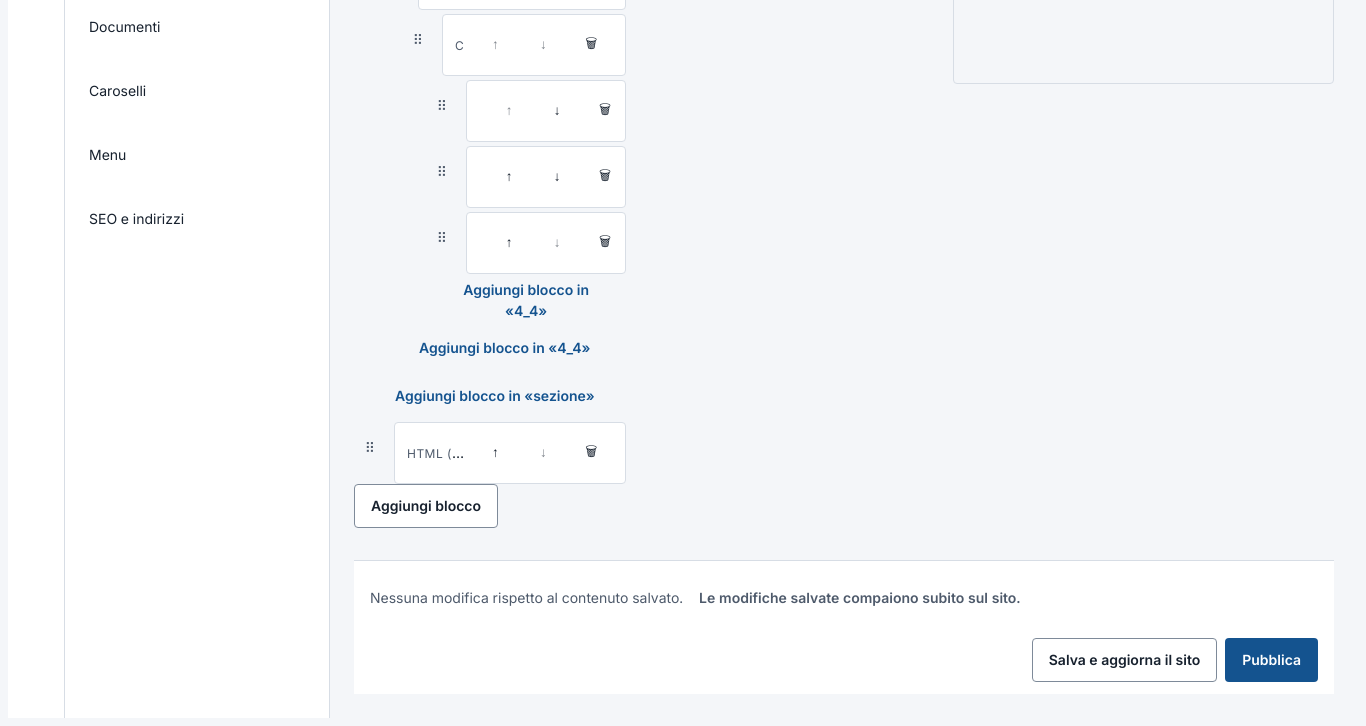
Test: editor: inserimento dell’immagine › video, mappa e modulo restano spenti
This screenshot has width=1366, height=726.
(page scrolled)
Click the button "Aggiungi blocco".
click(426, 506)  # box x1=354 y1=484 x2=498 y2=528
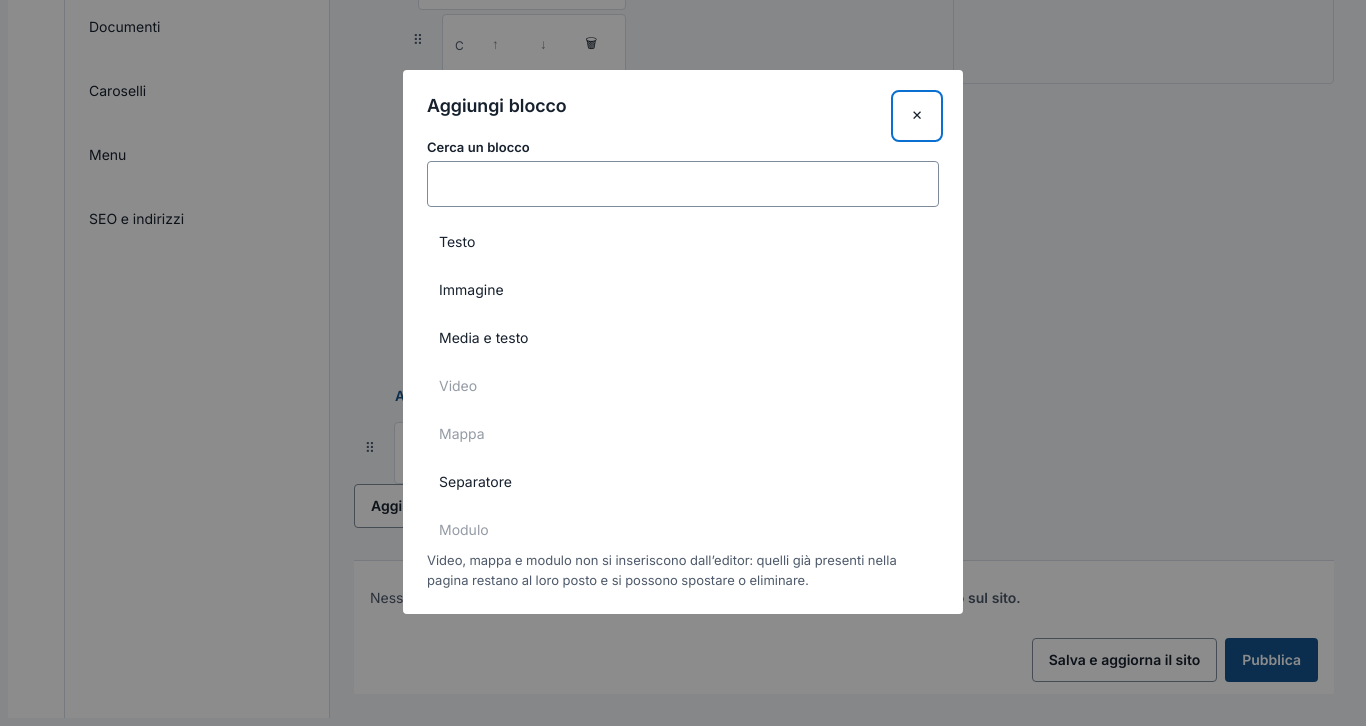
Expected: the button "Video" is disabled, x1=427 y1=363 x2=939 y2=407
Expected: the button "Mappa" is disabled, x1=427 y1=411 x2=939 y2=455
Expected: the button "Modulo" is disabled, x1=427 y1=507 x2=939 y2=539
